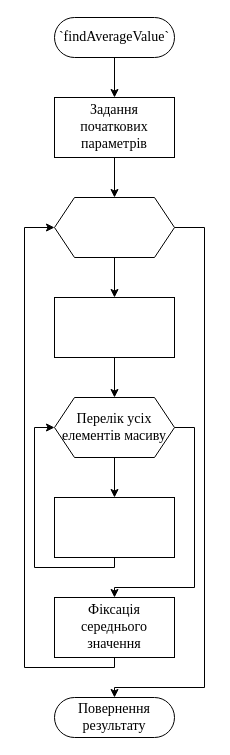
Image size: 230x755. Some labels were removed from this diagram. The centre of each missing label's shape, as x and y in pixels:
"Надання суммі значення 0" goes at point (114, 327).
"Перелік усіх масивів" goes at point (114, 227).
"Сумма елементів масиву" goes at point (114, 527).
